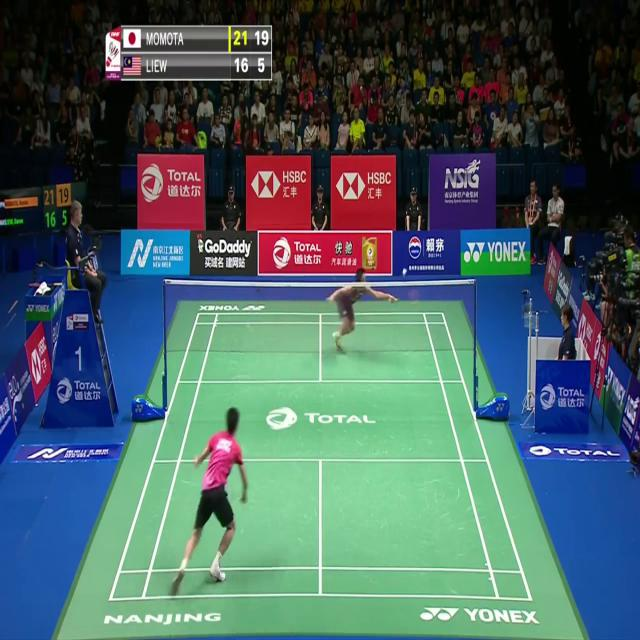Shuttlecock: (401, 266, 407, 278)
